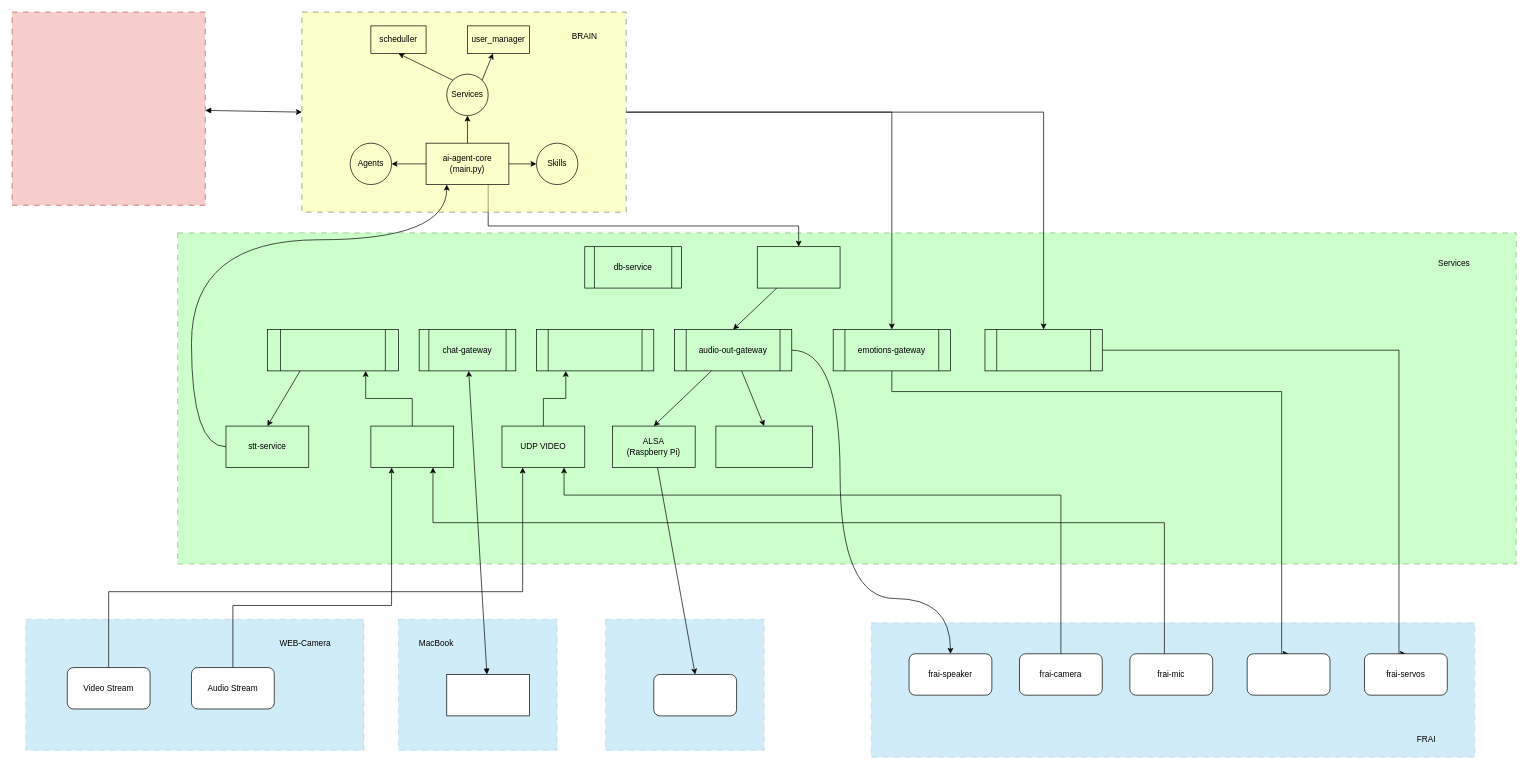
This 1528x769 diagram has some shape labels left out. Each missing label, with the box of its shape:
actuators-gateway: (984, 329, 1102, 371)
audio-stream-gateway: (267, 329, 398, 371)
chat-front: (446, 674, 530, 716)
frai-screen: (1246, 653, 1330, 695)
Google Speaker (через HA): (715, 425, 812, 467)
Home Assistant: (11, 11, 205, 205)
PC Speaker: (653, 674, 737, 716)
tts-service: (757, 246, 840, 288)
UDP AUDIO: (370, 425, 454, 467)
video-stream-gateway: (536, 329, 654, 371)
